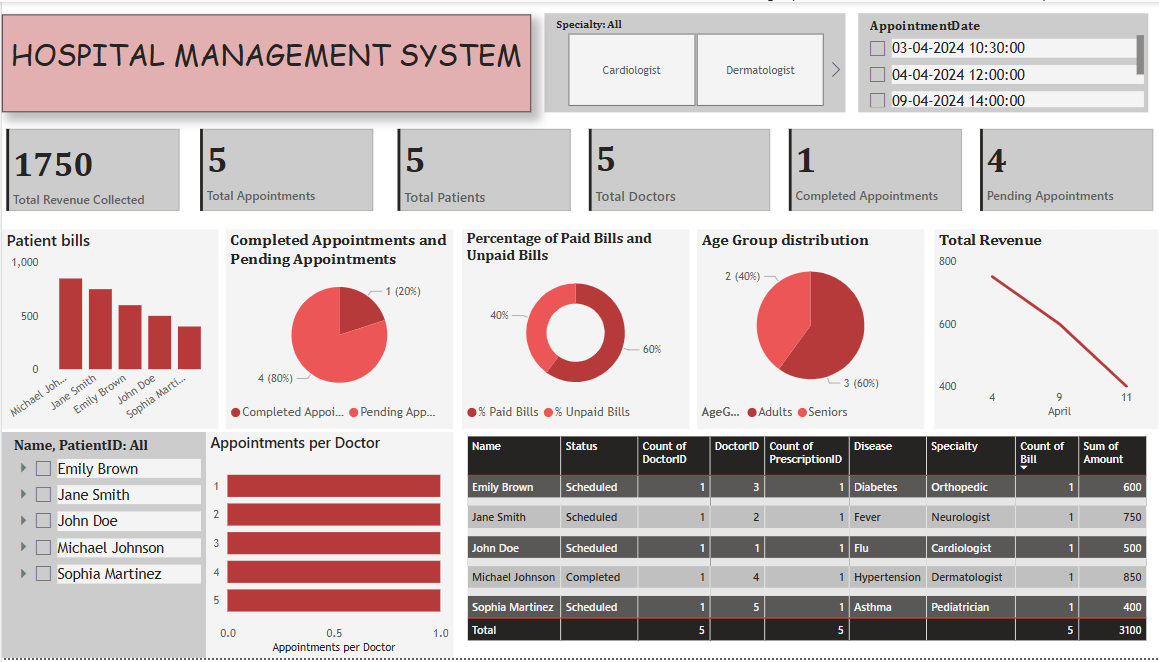

The dashboard page shown, as its layout file describes it:
{"tool":"powerbi","page":{"name":"Page 1","canvas":[1280,720],"ordinal":0},"visuals":[{"type":"cardVisual","fields":{"Data":["Bills.Total Revenue Collected"]},"box":[0,134.5,200.3,100.2],"z":0},{"type":"cardVisual","fields":{"Data":["Appointments.Total Appointments"]},"box":[212.7,134.5,200.3,100.2],"z":1000},{"type":"cardVisual","fields":{"Data":["Patients.Total Patients"]},"box":[429.5,134.5,200.3,100.2],"z":2000},{"type":"cardVisual","fields":{"Data":["Doctors.Total Doctors"]},"box":[639.5,134.5,209.9,100.2],"z":3000},{"type":"cardVisual","fields":{"Data":["Appointments.Completed Appointments"]},"box":[859,134.5,200.3,100.2],"z":4000},{"type":"cardVisual","fields":{"Data":["Appointments.Pending Appointments"]},"box":[1069,134.5,200.3,100.2],"z":5000},{"type":"barChart","title":"Appointments per Doctor ","fields":{"Y":["Appointments.Appointments per Doctor"],"Category":["Doctors.DoctorID"]},"box":[223.7,472,271.7,248.4],"z":6000},{"type":"pieChart","fields":{"Y":["Appointments.Completed Appointments","Appointments.Pending Appointments"]},"box":[245.6,249.7,249.7,219.6],"z":7000},{"type":"lineChart","title":"Total Revenue ","fields":{"Category":["Appointments.AppointmentDate.Variation.Date Hierarchy.Month","Appointments.AppointmentDate.Variation.Date Hierarchy.Day"],"Y":["Bills.Total Revenue Collected"]},"box":[1023.7,249.7,245.6,219.6],"z":8000},{"type":"columnChart","title":"Patient bills","fields":{"Category":["Patients.Name"],"Y":["Bills.Average Bill Per Patient"]},"box":[0,249.7,237.4,219.6],"z":9000},{"type":"tableEx","fields":{"Values":["Patients.Name","Appointments.Status","CountNonNull(Prescriptions.DoctorID)","Doctors.DoctorID","CountNonNull(Prescriptions.PrescriptionID)","Patients.Disease","Doctors.Specialty","CountNonNull(Bills.BillID)","Sum(Bills.Amount)"]},"box":[505,472,764.3,248.4],"z":10000},{"type":"pieChart","title":"Age Group distribution","fields":{"Category":["Patients.AgeGroup"],"Y":["CountNonNull(Patients.Name)"]},"box":[763,249.7,249.7,219.6],"z":11000},{"type":"donutChart","title":"Percentage of Paid Bills and Unpaid Bills","fields":{"Y":["Bills.Percentage of Paid Bills","Bills.Percentage of Unpaid Bills"]},"box":[505,249.7,249.7,219.6],"z":12000},{"type":"slicer","fields":{"Values":["Patients.Name","Patients.PatientID"]},"box":[0,472,223.7,248.4],"z":13000},{"type":"slicer","fields":{"Values":["Doctors.Specialty"]},"box":[595.5,12.3,330.7,108.4],"z":14000},{"type":"slicer","fields":{"Values":["Appointments.AppointmentDate"]},"box":[940,12.3,318.4,108.4],"z":15000},{"type":"textbox","box":[0,13.7,580.4,107],"z":15001}]}

Visuals, with their boxes in screenshot pixels (x1, y1, x2, y2), scaled from the page's 1280x720 canvas onto the 1159x662 screenshot:
cardVisual - Bills.Total Revenue Collected: (x1=0, y1=124, x2=181, y2=216)
cardVisual - Appointments.Total Appointments: (x1=193, y1=124, x2=374, y2=216)
cardVisual - Patients.Total Patients: (x1=389, y1=124, x2=570, y2=216)
cardVisual - Doctors.Total Doctors: (x1=579, y1=124, x2=769, y2=216)
cardVisual - Appointments.Completed Appointments: (x1=778, y1=124, x2=959, y2=216)
cardVisual - Appointments.Pending Appointments: (x1=968, y1=124, x2=1149, y2=216)
"Appointments per Doctor " barChart: (x1=203, y1=434, x2=449, y2=661)
pieChart - Appointments.Completed Appointments x Appointments.Pending Appointments: (x1=222, y1=230, x2=448, y2=431)
"Total Revenue " lineChart: (x1=927, y1=230, x2=1149, y2=431)
"Patient bills" columnChart: (x1=0, y1=230, x2=215, y2=431)
tableEx - Patients.Name x Appointments.Status: (x1=457, y1=434, x2=1149, y2=661)
"Age Group distribution" pieChart: (x1=691, y1=230, x2=917, y2=431)
"Percentage of Paid Bills and Unpaid Bills" donutChart: (x1=457, y1=230, x2=683, y2=431)
slicer - Patients.Name x Patients.PatientID: (x1=0, y1=434, x2=203, y2=661)
slicer - Doctors.Specialty: (x1=539, y1=11, x2=839, y2=111)
slicer - Appointments.AppointmentDate: (x1=851, y1=11, x2=1139, y2=111)
textbox: (x1=0, y1=13, x2=526, y2=111)
